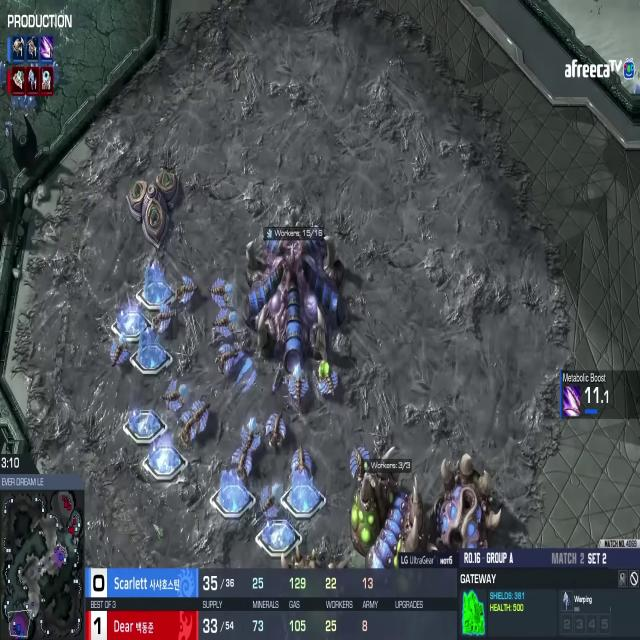drone: (253, 479, 288, 524), (168, 263, 200, 309), (146, 294, 177, 339), (346, 438, 376, 482), (104, 327, 132, 373), (315, 356, 341, 405), (235, 414, 264, 457), (160, 374, 189, 415), (213, 340, 241, 380), (285, 368, 312, 408), (229, 439, 255, 480), (207, 272, 234, 311), (287, 441, 316, 477), (265, 407, 289, 450), (189, 394, 213, 435), (210, 307, 238, 341), (177, 411, 198, 450)
